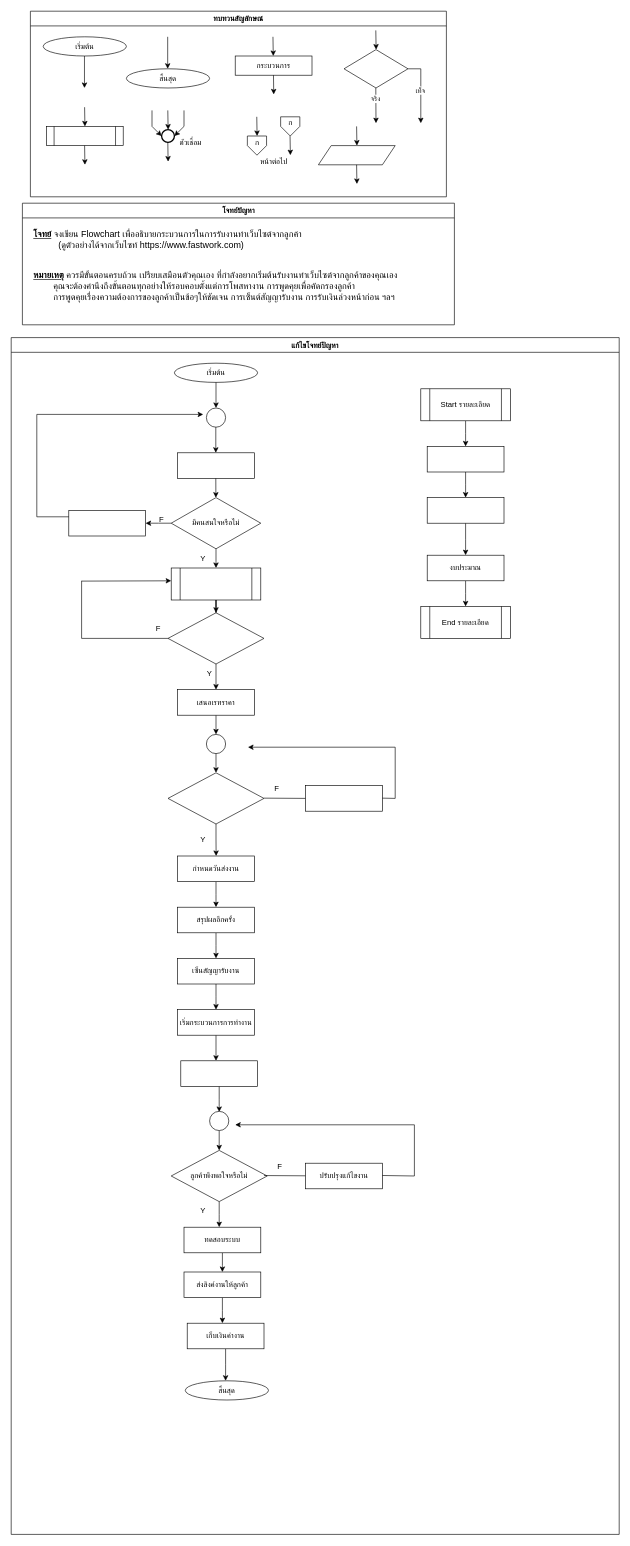
This 630x1546 diagram has some shape labels left out. Each missing label, with the box of its shape:
ขอรายละเอียดจากลูกค้า: (171, 567, 261, 600)
ประเภทของเว็บไซต์: (427, 446, 504, 472)
ประโยคเงื่อนไข: (343, 49, 408, 88)
ปรับปรุงเนื้อหา: (68, 510, 146, 536)
ฟังก์ชัน/โมดูล: (46, 126, 123, 146)
รายละเอียดครบถ้วนหรือไม่: (167, 612, 264, 664)
ลูกค้าพอใจกับเรท ราคาหรือไม่: (167, 772, 264, 824)
ส่งแบบร่างให้ลูกค้า: (180, 1060, 258, 1086)
เนื้อหาของเว็บไซต์: (427, 497, 504, 523)
เสนอราคาครั้งใหม่: (305, 785, 382, 811)
แสดงผล/รับค่า: (318, 145, 395, 165)
โพสต์หางานในแอพ: (177, 452, 254, 478)
